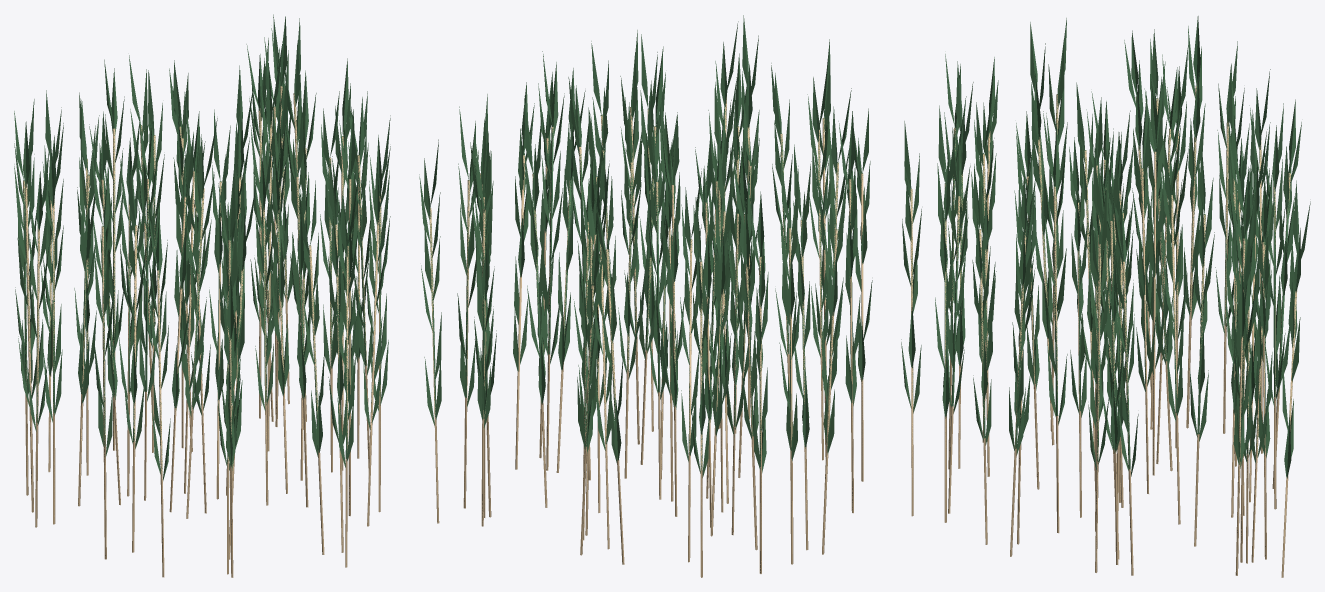
Rendered from SM_ReedsA_Cluster.glb.
3 renders of one model, left to right at view 1: azimuth 30°, elevation 25°; view 2: azimuth 150°, elevation 25°; view 3: azimuth 270°, elevation 25°, orthographic.
Visible parts, largest first — view 1: SM_CommonReed_Cluster; view 2: SM_CommonReed_Cluster; view 3: SM_CommonReed_Cluster.
Boxes of the visible parts, x1=… form: SM_CommonReed_Cluster: x1=14, y1=14, x2=390, y2=577; SM_CommonReed_Cluster: x1=419, y1=15, x2=872, y2=577; SM_CommonReed_Cluster: x1=901, y1=16, x2=1310, y2=577.
Size of the model in its own units: 4.2 by 4.89 by 4.31.
